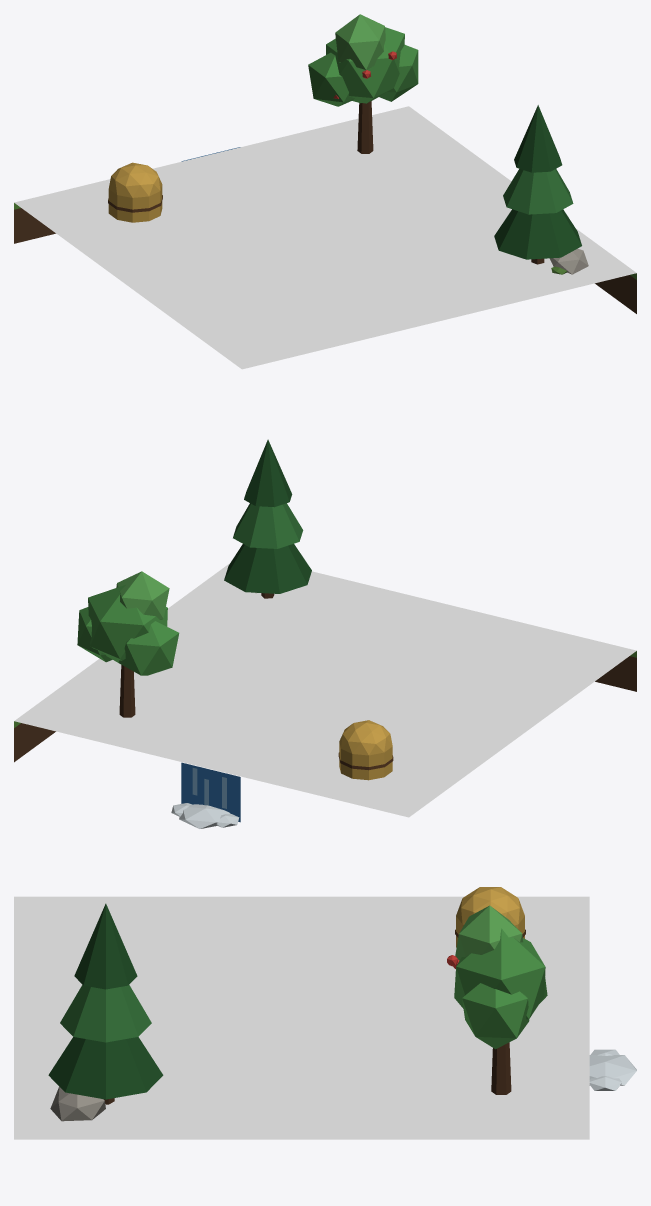
Rendered from wEnd.glb.
3 views of the same model, one above another, from view 1: azimuth 30°, elevation 25°; view 2: azimuth 150°, elevation 25°; view 3: azimuth 270°, elevation 25° (orthographic). The views are drawn at different scales.
Parts seen in each view (by area): view 1: wEnd; view 2: wEnd, fall_N; view 3: wEnd, fall_N.
Part boxes in pixels (<box>): wEnd: <box>14,14,636,369</box>; wEnd: <box>14,439,636,817</box>; fall_N: <box>171,762,240,828</box>; wEnd: <box>14,887,589,1139</box>; fall_N: <box>589,1049,636,1090</box>.
Bounding box in the file's own units: 2 × 0.9925 × 2.16.
